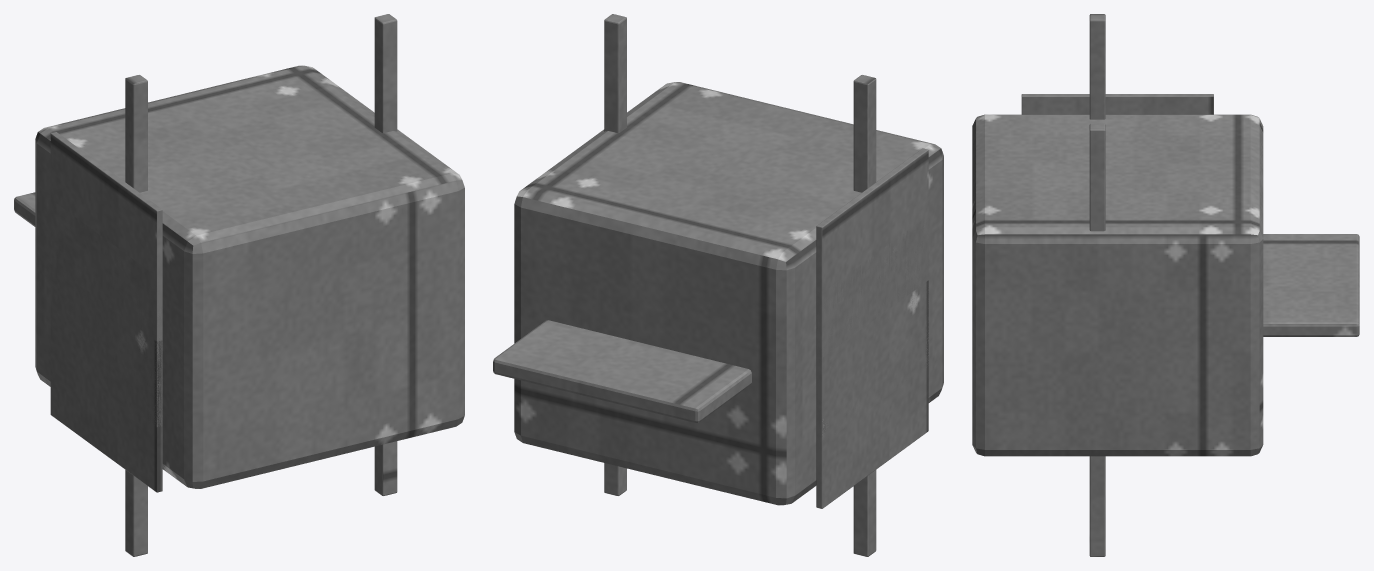
File: hull_6.glb
The picture shows the model from 3 angles, left to right: view 1: azimuth 30°, elevation 25°; view 2: azimuth 150°, elevation 25°; view 3: azimuth 270°, elevation 25°; orthographic projection. The views are drawn at different scales.
Visible parts, largest first — view 1: hull_6; view 2: hull_6; view 3: hull_6.
Boxes of the visible parts, bbox=[...] form: hull_6: bbox=[14, 14, 464, 556]; hull_6: bbox=[493, 14, 943, 556]; hull_6: bbox=[972, 14, 1359, 556].
Bounding box in the file's own units: 0.922 × 1.46 × 1.2.
Materials: 1 (1 with a texture image).
